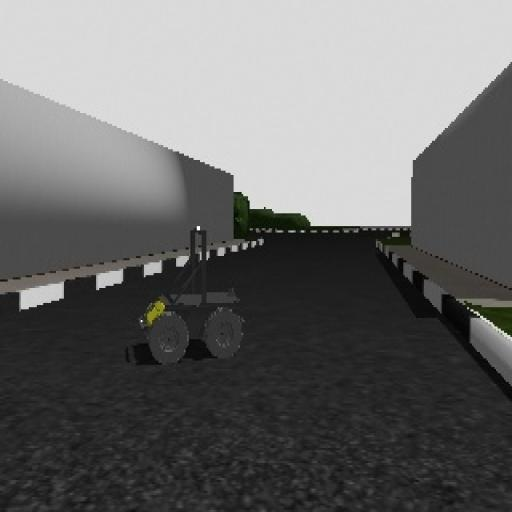huskya200: (133, 222, 251, 380)
